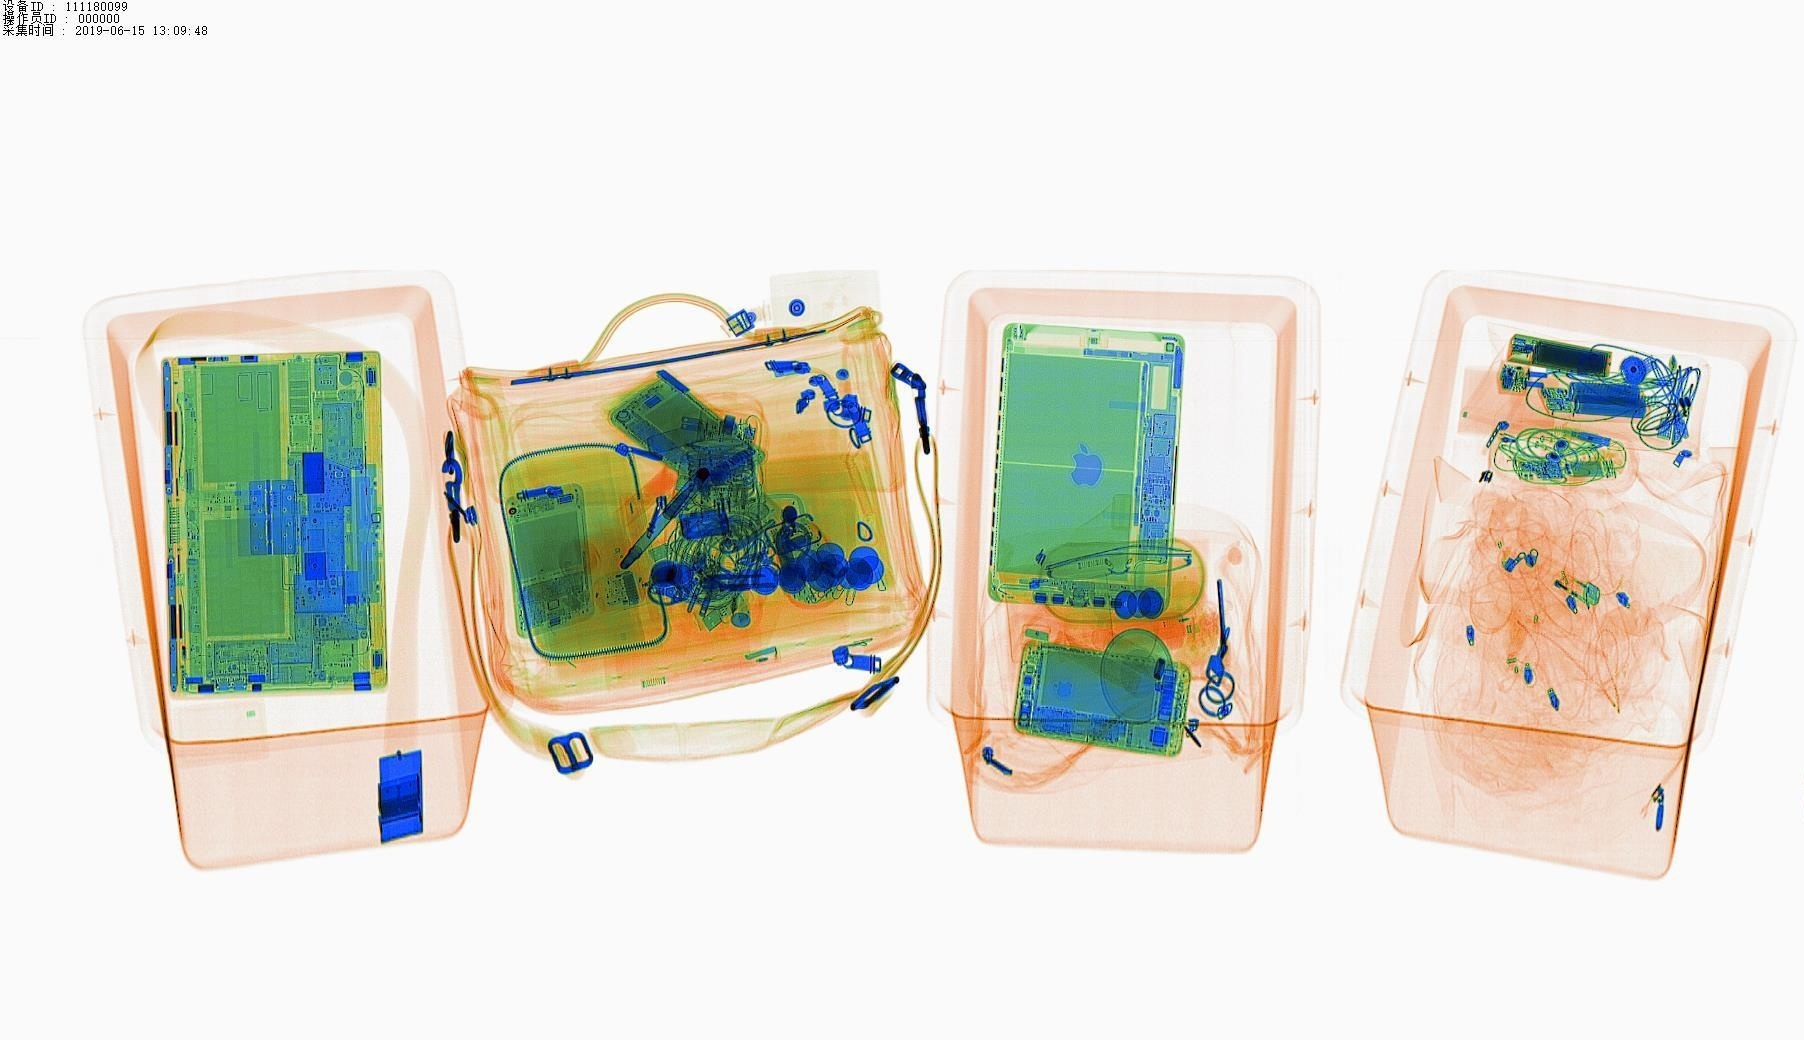NonmetallicFire: (1491, 535, 1614, 619)
